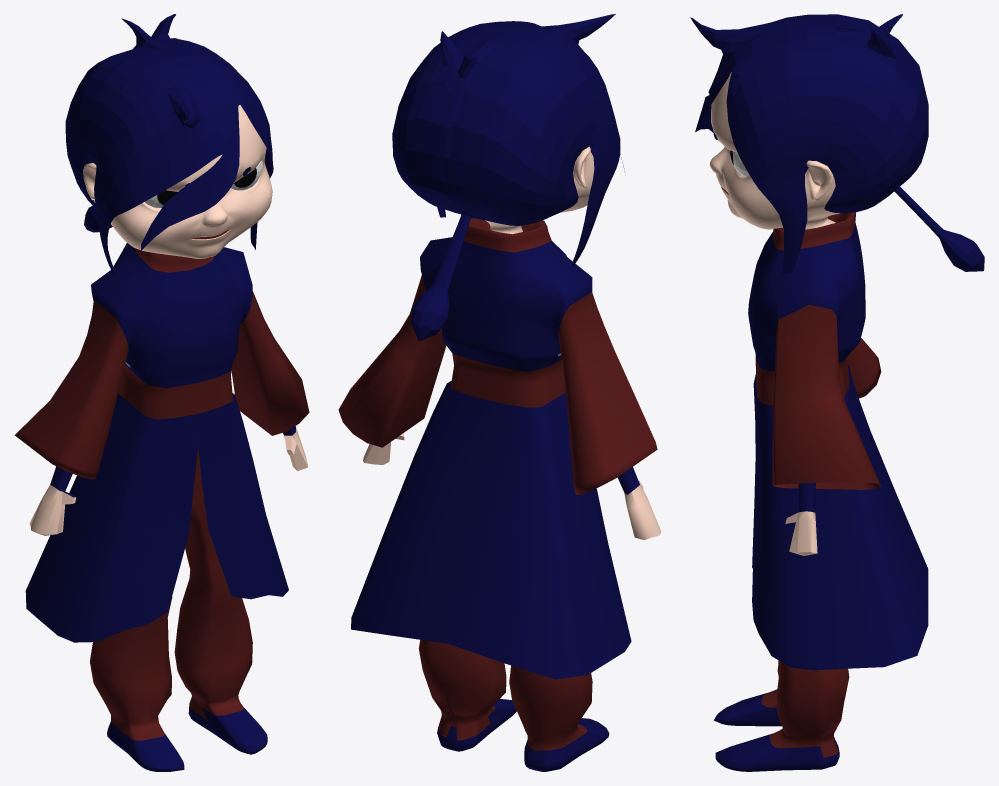
File: main-char.fbx
3 renders of one model, left to right at view 1: azimuth 30°, elevation 25°; view 2: azimuth 150°, elevation 25°; view 3: azimuth 270°, elevation 25°, orthographic. The views are drawn at different scales.
Visible parts, largest first — view 1: head1, coatBottom2, hair; view 2: head1, coatBottom2, hair; view 3: head1, hair, coatBottom2.
Part boxes in pixels (x1,y1,x2,y2): head1: (14,105,309,771); coatBottom2: (25,393,288,642); hair: (65,14,273,281); head1: (338,146,661,771); coatBottom2: (351,381,631,679); hair: (392,14,625,341); head1: (709,72,881,771); hair: (690,14,984,275); coatBottom2: (752,365,928,670).
Bounding box in the file's own units: 12.94 × 30.45 × 11.12.
